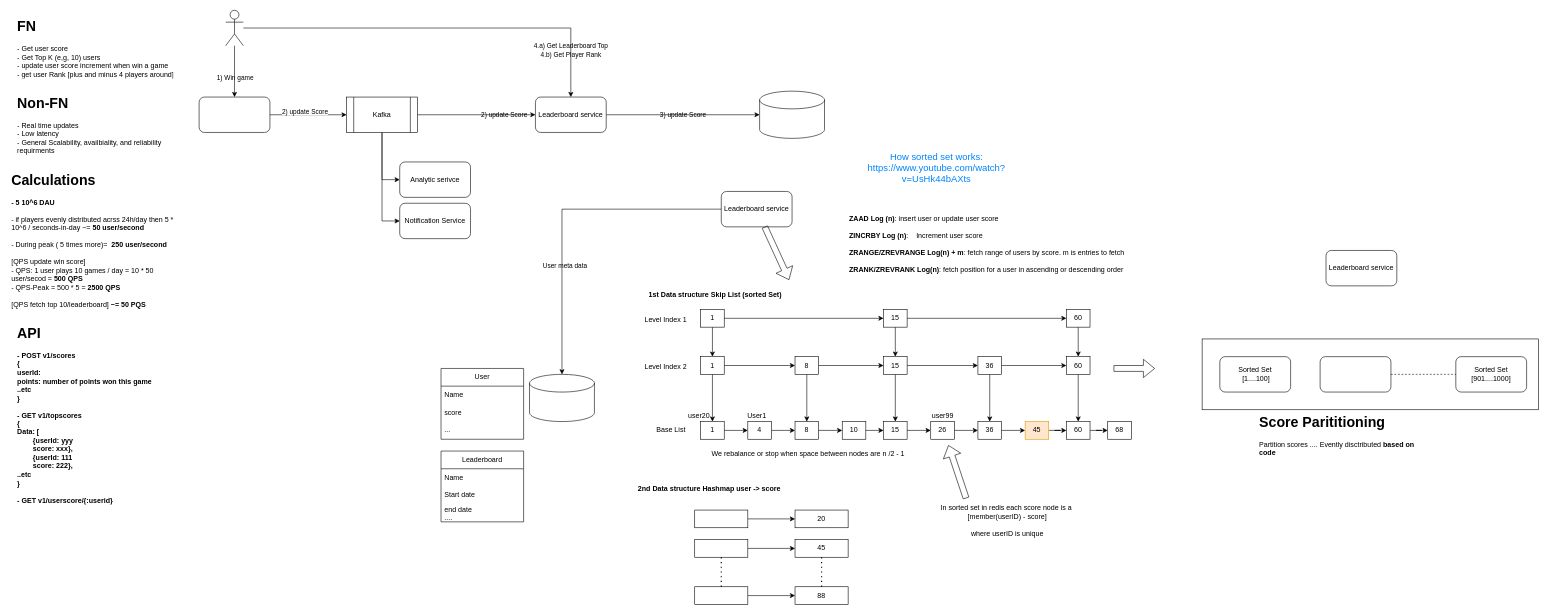
Some shapes in this 1549 by 615 pixel diagram are drawn without their labels. The centre of each missing label's shape, as x and y in pixels:
"Actor" belongs at pixel 234 28.
"Game service" belongs at pixel 234 114.
"Leaderboard score" belongs at pixel 792 114.
"RDS" belongs at pixel 561 398.
"Sorted Set [101....200]" belongs at pixel 1355 374.
"User A" belongs at pixel 721 518.
"User B" belongs at pixel 721 548.
"User z" belongs at pixel 721 595.
